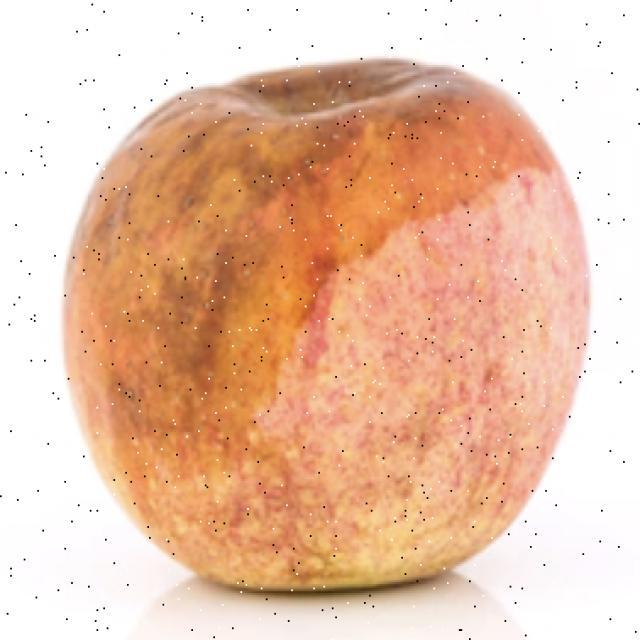Rotten: (70, 55, 587, 627)
